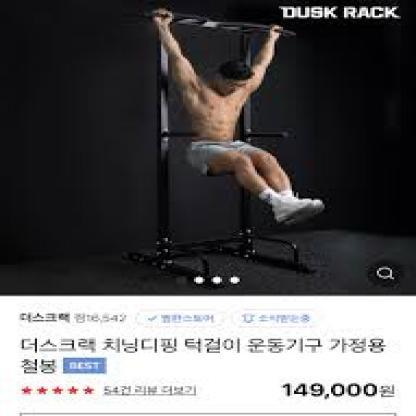chinning dipping: (138, 8, 318, 291)
